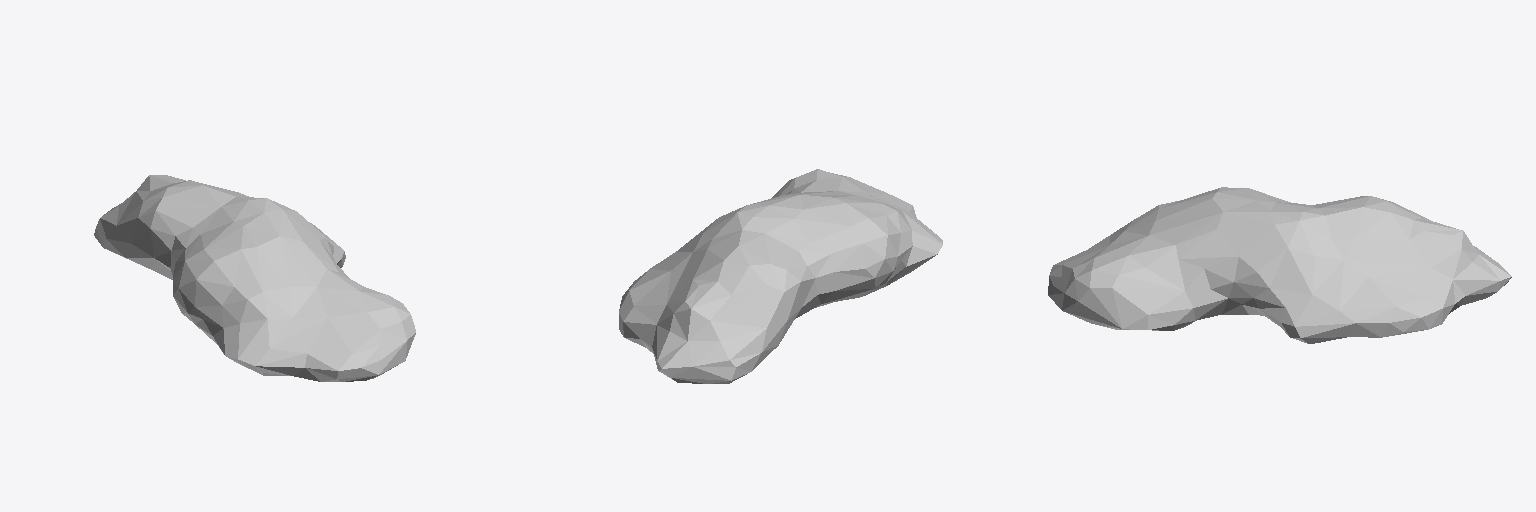
Rendered from snow_tepe_2.obj.
3 renders of one model, left to right at view 1: azimuth 30°, elevation 25°; view 2: azimuth 150°, elevation 25°; view 3: azimuth 270°, elevation 25°, orthographic.
Parts seen in each view (by area): view 1: Snow_Env1__3601_Snow_Env1_6; view 2: Snow_Env1__3601_Snow_Env1_6; view 3: Snow_Env1__3601_Snow_Env1_6.
Part boxes in pixels (bbox=[...]): Snow_Env1__3601_Snow_Env1_6: bbox=[94, 175, 415, 381]; Snow_Env1__3601_Snow_Env1_6: bbox=[619, 169, 942, 383]; Snow_Env1__3601_Snow_Env1_6: bbox=[1048, 187, 1511, 343].
Bounding box in the file's own units: 13.9 × 6.12 × 27.87.